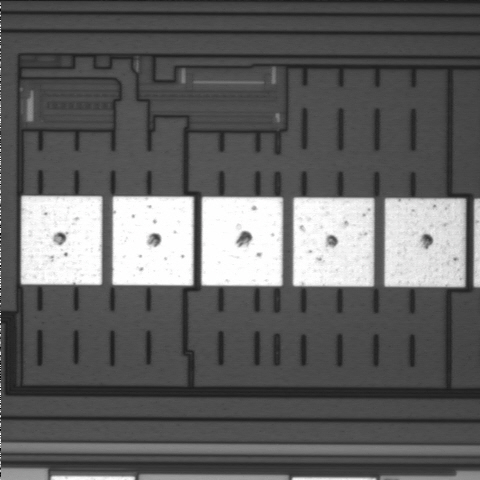pad: (112, 196, 194, 286), (201, 197, 283, 286), (21, 196, 102, 285), (384, 198, 465, 287), (293, 198, 374, 286)
